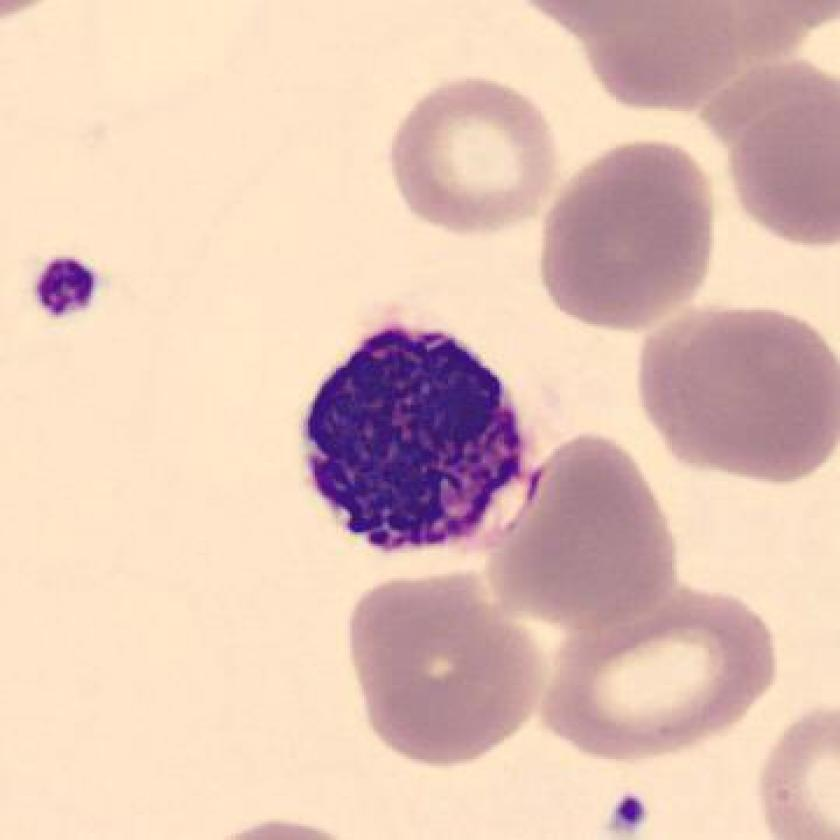basophil: (288, 313, 531, 559)
